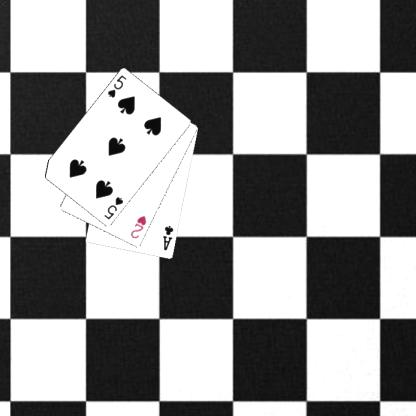2H: (127, 213, 148, 240)
5S: (101, 194, 125, 221), (105, 72, 128, 100)
AC: (161, 223, 175, 252)
